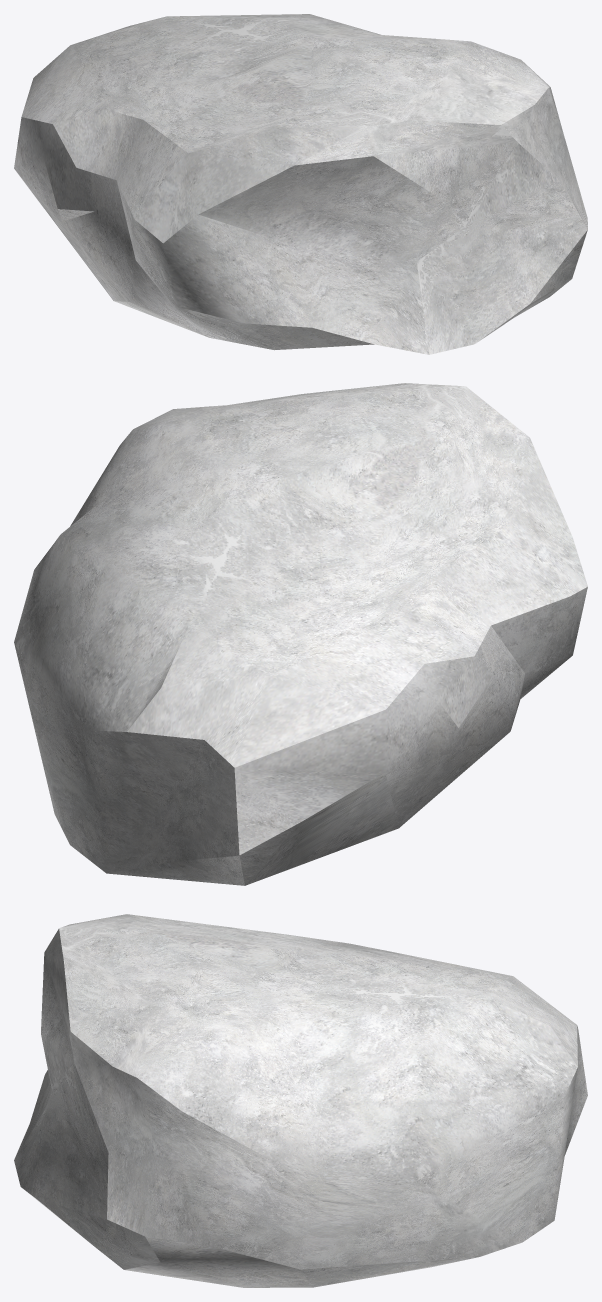
The model's file is rock_00C_lp2.fbx.
3 views of the same model, one above another, from view 1: azimuth 30°, elevation 25°; view 2: azimuth 150°, elevation 25°; view 3: azimuth 270°, elevation 25° (orthographic). The views are drawn at different scales.
Parts seen in each view (by area): view 1: rock_00C_lp2; view 2: rock_00C_lp2; view 3: rock_00C_lp2.
Part boxes in pixels (bbox=[...]): rock_00C_lp2: bbox=[14, 14, 587, 354]; rock_00C_lp2: bbox=[14, 383, 587, 885]; rock_00C_lp2: bbox=[14, 914, 587, 1287].
Size of the model in its own units: 222 by 143 by 261.
